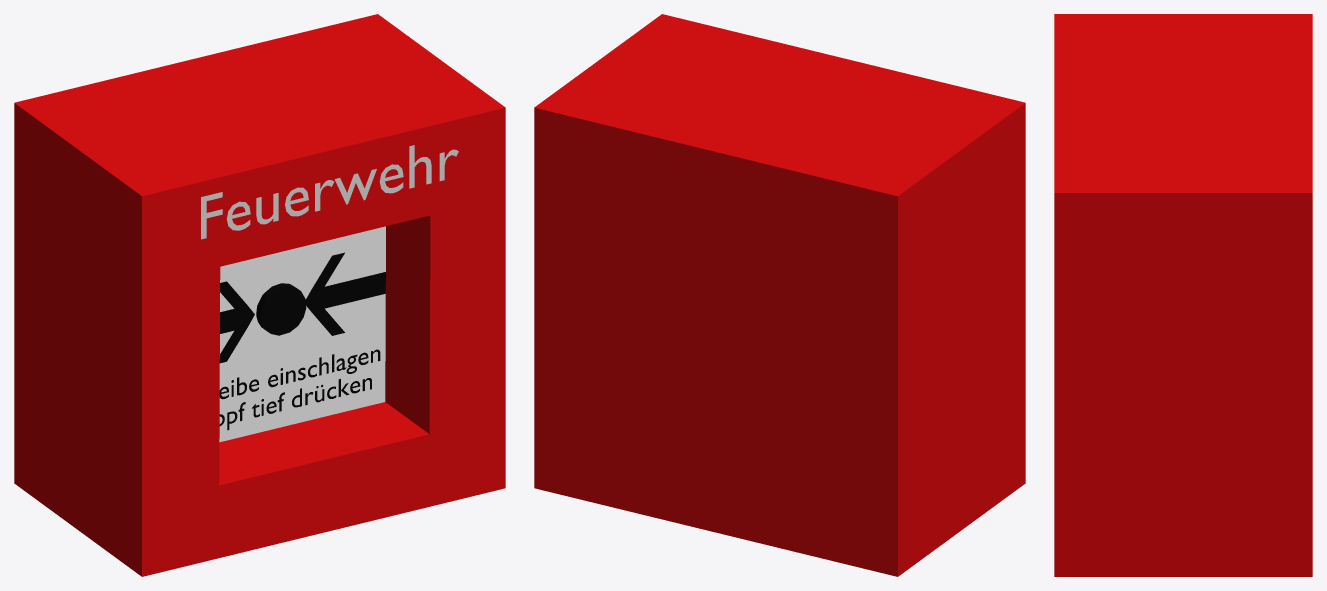
Rendered from Feuermelder.fbx.
The picture shows the model from 3 angles, left to right: view 1: azimuth 30°, elevation 25°; view 2: azimuth 150°, elevation 25°; view 3: azimuth 270°, elevation 25°; orthographic projection.
Parts seen in each view (by area): view 1: Feuerlöscher_LOD0, Text1_LOD0, Text2_LOD0; view 2: Feuerlöscher_LOD0; view 3: Feuerlöscher_LOD0.
Part boxes in pixels (x1,y1,x2,y2): Feuerlöscher_LOD0: (14,14,505,576); Text1_LOD0: (201,145,458,239); Text2_LOD0: (219,349,380,430); Feuerlöscher_LOD0: (534,14,1025,576); Feuerlöscher_LOD0: (1054,14,1312,576).
Size of what is drawn, in the model's own units: 0.1566 by 0.1566 by 0.0954.
